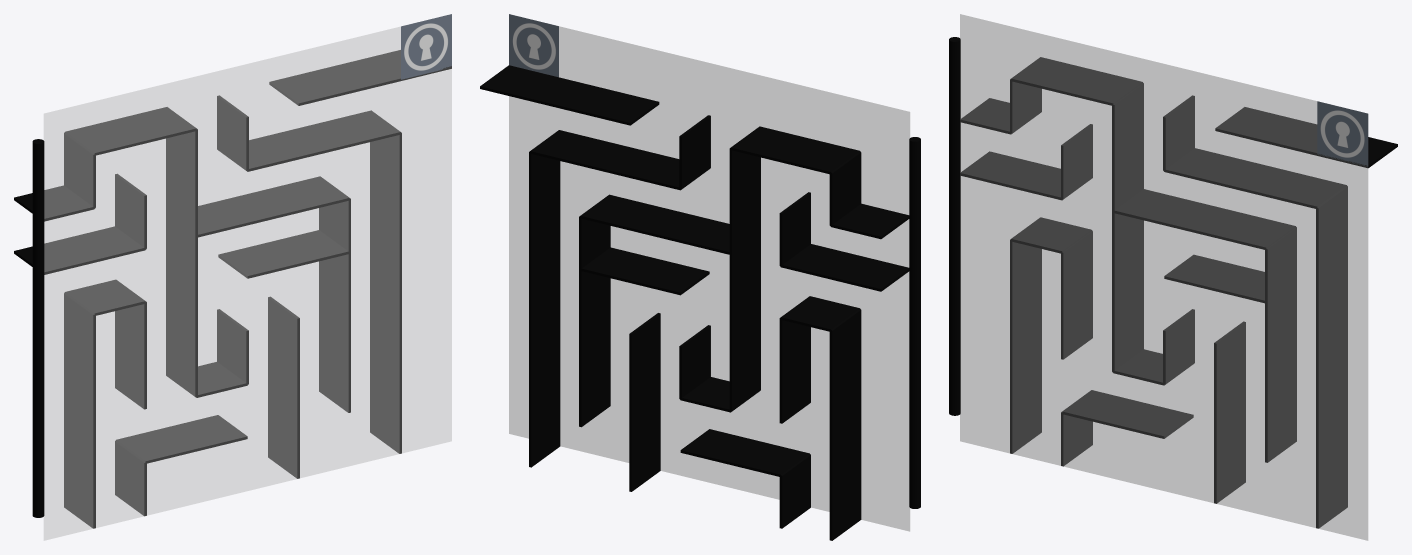
Rendered from maze.fbx.
3 views of the same model, side by side, from view 1: azimuth 30°, elevation 25°; view 2: azimuth 150°, elevation 25°; view 3: azimuth 330°, elevation 25° (orthographic).
Visible parts, largest first — view 1: Cube; view 2: Cube; view 3: Cube.
Boxes of the visible parts, box(x1,y1,x2,y2) form: Cube: box(14, 14, 451, 540); Cube: box(480, 14, 920, 540); Cube: box(949, 14, 1397, 540).
Bounding box in the file's own units: 1640 × 1600 × 220.
Materials: 24 (1 with a texture image).
